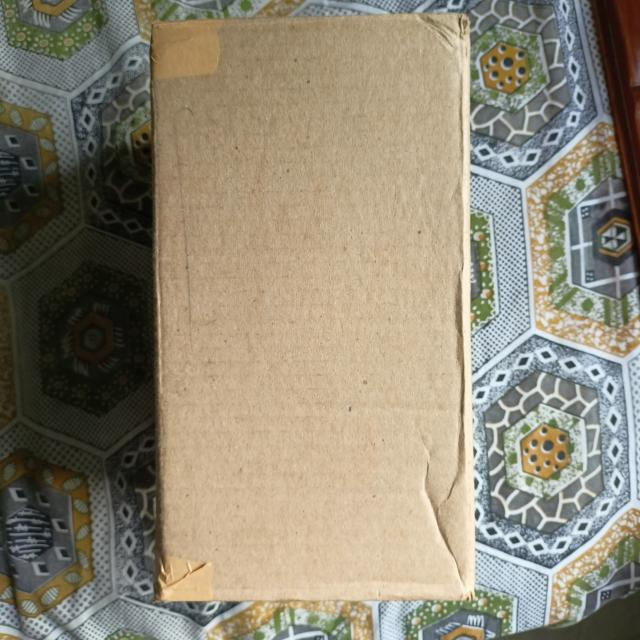box: (151, 19, 474, 603)
